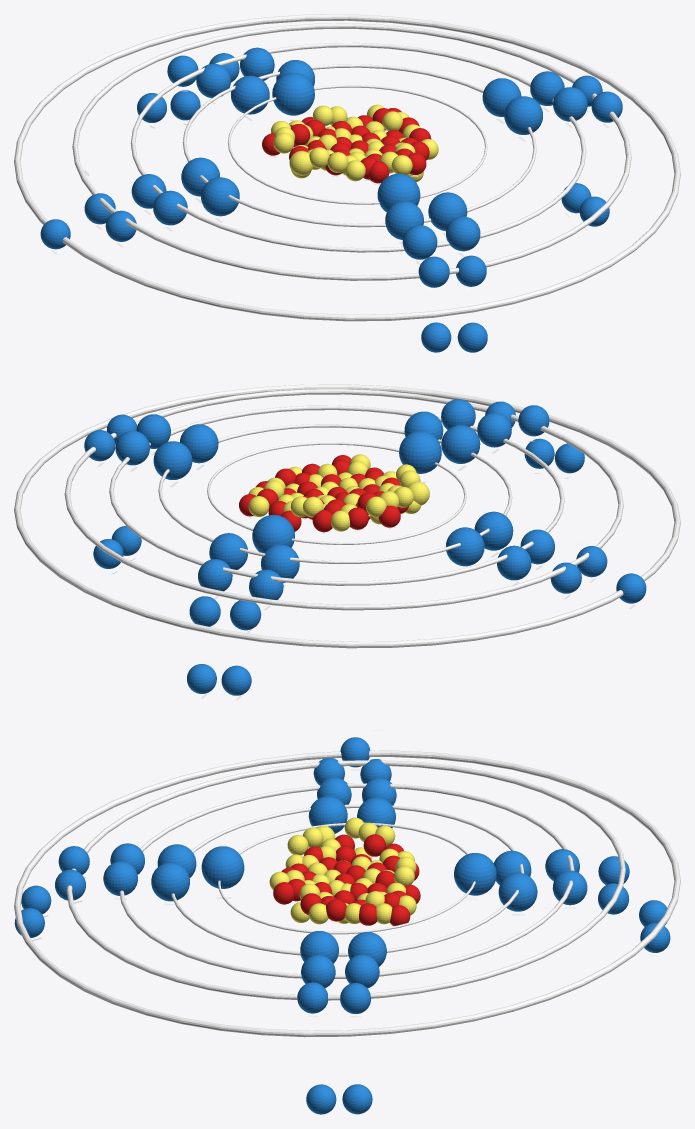
3 renders of one model, top to bottom at view 1: azimuth 30°, elevation 25°; view 2: azimuth 150°, elevation 25°; view 3: azimuth 270°, elevation 25°, orthographic.
Parts seen in each view (by area): view 1: Torus.005, Torus.004, Torus.003, Torus.002, Torus.001, g, g.005, g.003, g.001, g.008, g.007, g.006 (+23 smaller); view 2: Torus.005, Torus.004, Torus.003, Torus.002, Torus.001, g.001, g, g.006, g.004, g.002, g.003, g.005 (+25 smaller); view 3: Torus.005, Torus.004, Torus.003, Torus.002, Torus.001, g.001, g, g.007, g.009, g.003, g.015, g.005 (+23 smaller).
Boxes of the visible parts, x1=… form: Torus.005: x1=14, y1=14, x2=680, y2=321; Torus.004: x1=72, y1=23, x2=631, y2=280; Torus.003: x1=130, y1=42, x2=586, y2=252; Torus.002: x1=182, y1=64, x2=536, y2=227; Torus.001: x1=228, y1=85, x2=487, y2=204; g: x1=272, y1=73, x2=314, y2=115; g.005: x1=504, y1=96, x2=542, y2=134; g.003: x1=201, y1=177, x2=239, y2=216; g.001: x1=377, y1=173, x2=420, y2=212; g.008: x1=231, y1=75, x2=269, y2=114; g.007: x1=428, y1=192, x2=467, y2=231; g.006: x1=385, y1=201, x2=423, y2=239; Torus.005: x1=14, y1=384, x2=680, y2=648; Torus.004: x1=64, y1=389, x2=623, y2=610; Torus.003: x1=109, y1=405, x2=564, y2=585; Torus.002: x1=158, y1=424, x2=512, y2=563; Torus.001: x1=207, y1=442, x2=466, y2=544; g.001: x1=399, y1=431, x2=441, y2=473; g: x1=252, y1=515, x2=294, y2=552; g.006: x1=441, y1=425, x2=480, y2=463; g.004: x1=153, y1=441, x2=192, y2=479; g.002: x1=446, y1=527, x2=484, y2=566; g.003: x1=474, y1=511, x2=513, y2=550; g.005: x1=179, y1=424, x2=218, y2=463; Torus.005: x1=14, y1=750, x2=680, y2=1037; Torus.004: x1=66, y1=760, x2=625, y2=1000; Torus.003: x1=119, y1=783, x2=574, y2=978; Torus.002: x1=171, y1=804, x2=524, y2=956; Torus.001: x1=218, y1=822, x2=475, y2=934; g.001: x1=201, y1=846, x2=244, y2=888; g: x1=454, y1=853, x2=496, y2=895; g.007: x1=151, y1=862, x2=189, y2=901; g.009: x1=498, y1=872, x2=537, y2=911; g.003: x1=308, y1=796, x2=347, y2=833; g.015: x1=103, y1=861, x2=137, y2=895; g.005: x1=300, y1=931, x2=338, y2=963.
Size of the model in its own units: 15.75 by 3.94 by 15.42.
